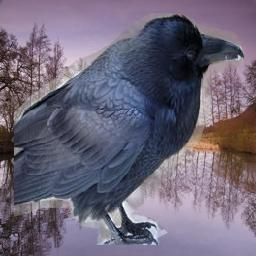Crow: (14, 13, 244, 245)
